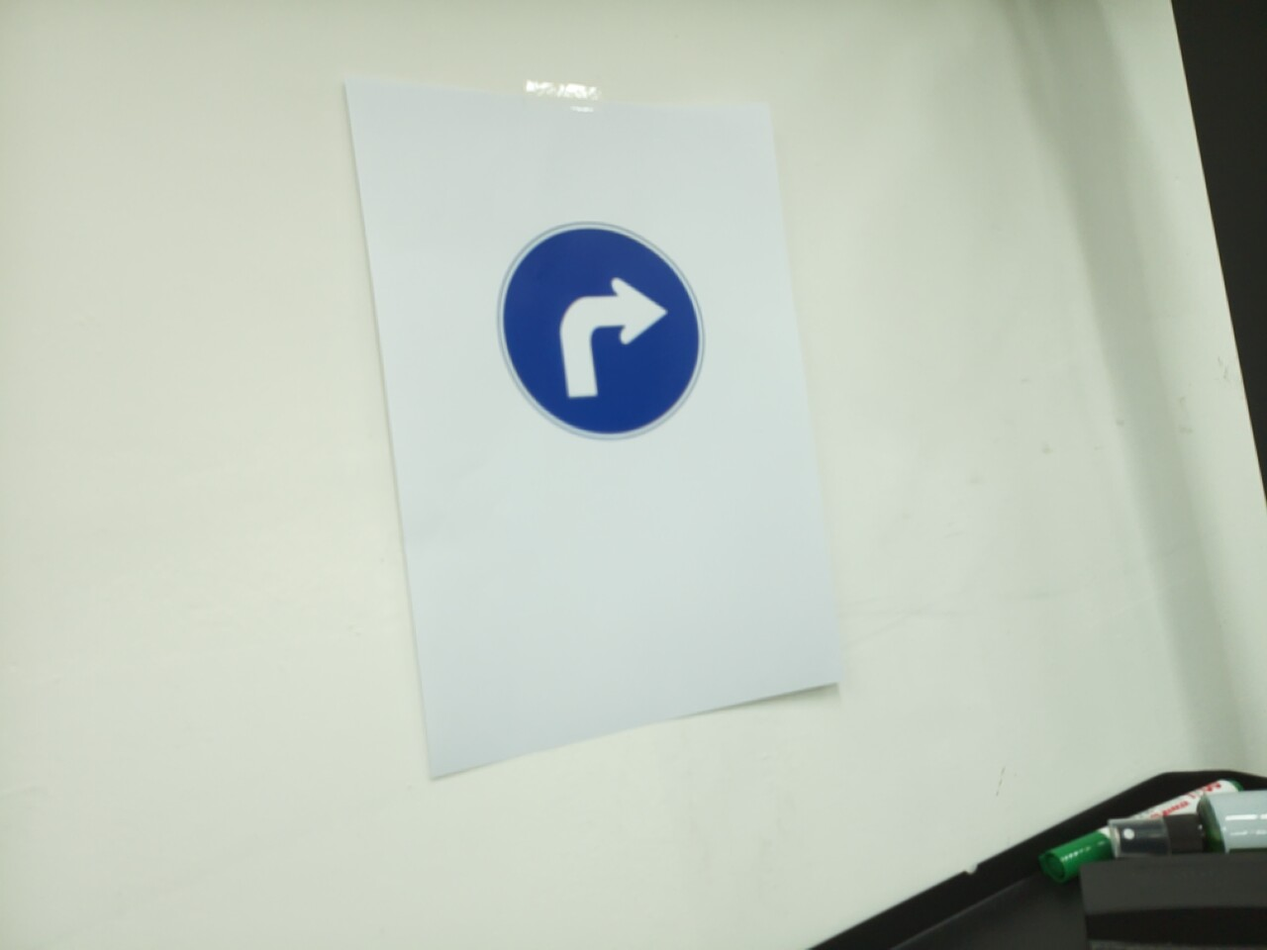right_turn: (495, 221, 707, 442)
